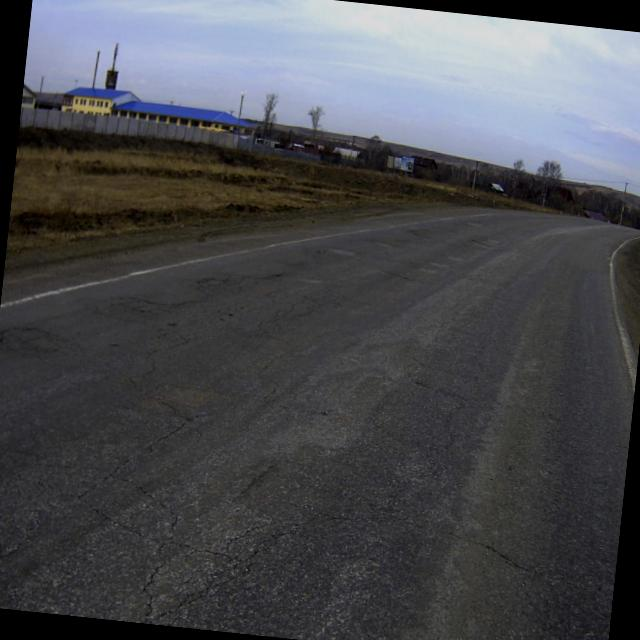road: (0, 214, 640, 640)
